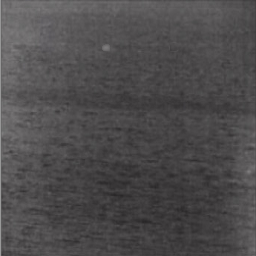Target: (101, 43, 110, 51)
